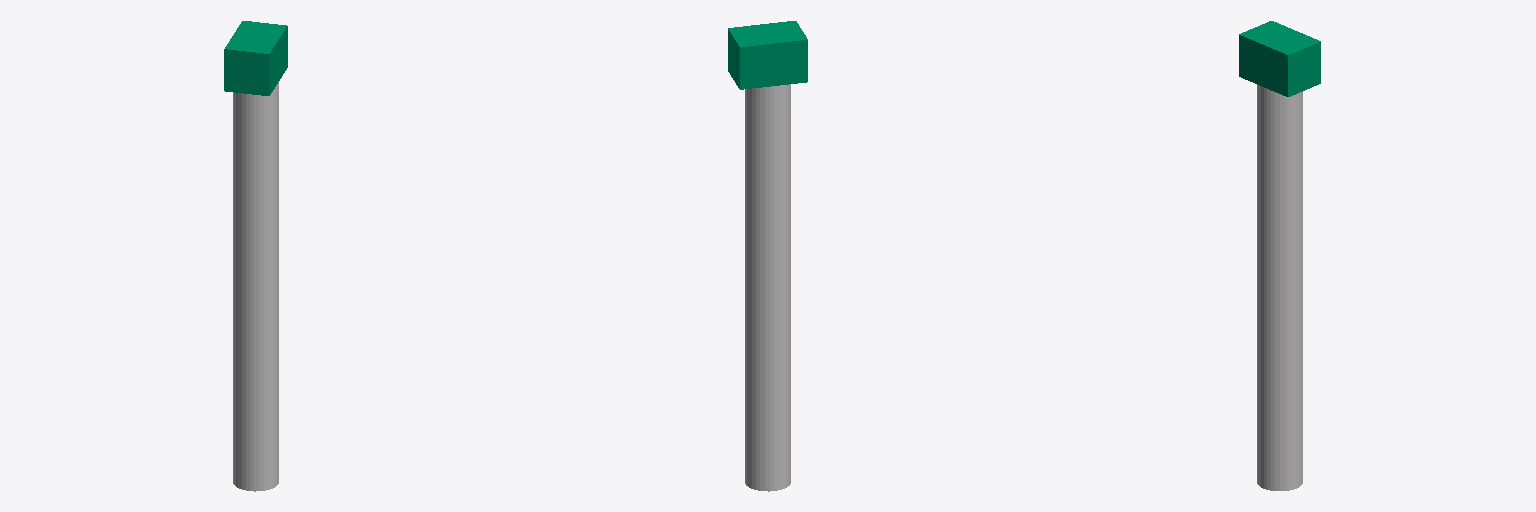
robot.urdf — camera_left:
<?xml version="1.0" encoding="utf-8"?>
<robot
  name="camera_left">

  <link name="base_footprint"/>

  <joint name="base_joint" type="fixed">
    <parent link="base_footprint"/>
    <child link="body" />
    <origin xyz="0 0 0.010" rpy="0 0 0"/>
  </joint>

  <link name="body">
    <inertial>
      <origin
        xyz="0 0 0.5"
        rpy="0 0 0" />
      <mass
        value="1" />
      <inertia
        ixx="0.003958333"
        ixy="0"
        ixz="0"
        iyy="0.003958333"
        iyz="0"
        izz="0.02" />
    </inertial>
    
    <visual>
      <origin
          xyz="0 0 0.5"
          rpy="0 0 0" />
      <geometry>
        <cylinder length="1" radius="0.05"/>
      </geometry>
      <material
        name="">
        <color
          rgba="0.84706 0.83922 0.83922 1" />
      </material>
    </visual>

    <collision>
      <origin
        xyz="0 0 0.5"
        rpy="0 0 0" />
      <geometry>
        <cylinder length="1" radius="0.05"/>
      </geometry>
    </collision>
    </link>


    <joint name="camera_joint" type="fixed">
        <origin xyz="0 0 1" rpy="0 0 2.355"/>
        <parent link="body"/>
        <child link="camera_link"/>
    </joint>


    <link name="camera_link">
        <visual>
            <origin xyz="0 0 0" rpy="0 0 0"/>
            <geometry>
                <box size="0.1 0.15 0.1" />
            </geometry>
        </visual>

        <collision>
            <origin xyz="0.003 0.065 0.007" rpy="0 0 0"/>
            <geometry>
                <box size="0.012 0.132 0.020"/>
            </geometry>
        </collision>    
    </link>




    <gazebo reference="body">
        <mu1>1</mu1>
        <mu2>1</mu2>
        <fdir1>1 0 0</fdir1>
        <kp>1e+13</kp>
        <kd>1</kd>
        <maxVel>0</maxVel>
        <minDepth>0.0000001</minDepth>
        <gravity>1</gravity>
        <material>Gazebo/Grey</material>
    </gazebo>

    <gazebo reference="camera_link">
        <sensor type="camera" name="camera1">
        <update_rate>30.0</update_rate>
            <camera name="head">
                <horizontal_fov>1.3962634</horizontal_fov>
                <image>
                <width>1280</width>
                <height>720</height>
                <format>R8G8B8</format>
                </image>
            </camera>        
            <plugin name="camera_controller" filename="libgazebo_ros_camera.so">
                <alwaysOn>true</alwaysOn>
                <updateRate>0.0</updateRate>
                <cameraName>camera_left</cameraName>
                <imageTopicName>image_raw</imageTopicName>
                <cameraInfoTopicName>camera_info</cameraInfoTopicName>
                <frameName>camera_link</frameName>
                <hackBaseline>0.07</hackBaseline>
                <distortionK1>0.0</distortionK1>
                <distortionK2>0.0</distortionK2>
                <distortionK3>0.0</distortionK3>
                <distortionT1>0.0</distortionT1>
                <distortionT2>0.0</distortionT2>
            </plugin>
        </sensor>
    </gazebo>




</robot>

--- Facts derived from the render (not from the file) ---
The picture shows the robot from 3 angles, left to right: view 1: azimuth 30°, elevation 25°; view 2: azimuth 150°, elevation 25°; view 3: azimuth 270°, elevation 25°; orthographic projection.
Model camera_left with 3 links and 2 joints (2 fixed), rooted at base_footprint, posed all joints at 0.
Links seen in each view (by area): view 1: body, camera_link; view 2: body, camera_link; view 3: body, camera_link.
Boxes of the visible links, x1,y1,x2,y2 form: body: (233,82,278,491); camera_link: (224,21,287,95); body: (745,84,790,491); camera_link: (728,21,807,89); body: (1257,85,1302,490); camera_link: (1239,21,1320,96).
Size in the robot's own frame: 0.1768 by 0.1767 by 1.05 metres.
Geometry: primitives only (box / cylinder / sphere), no mesh files.